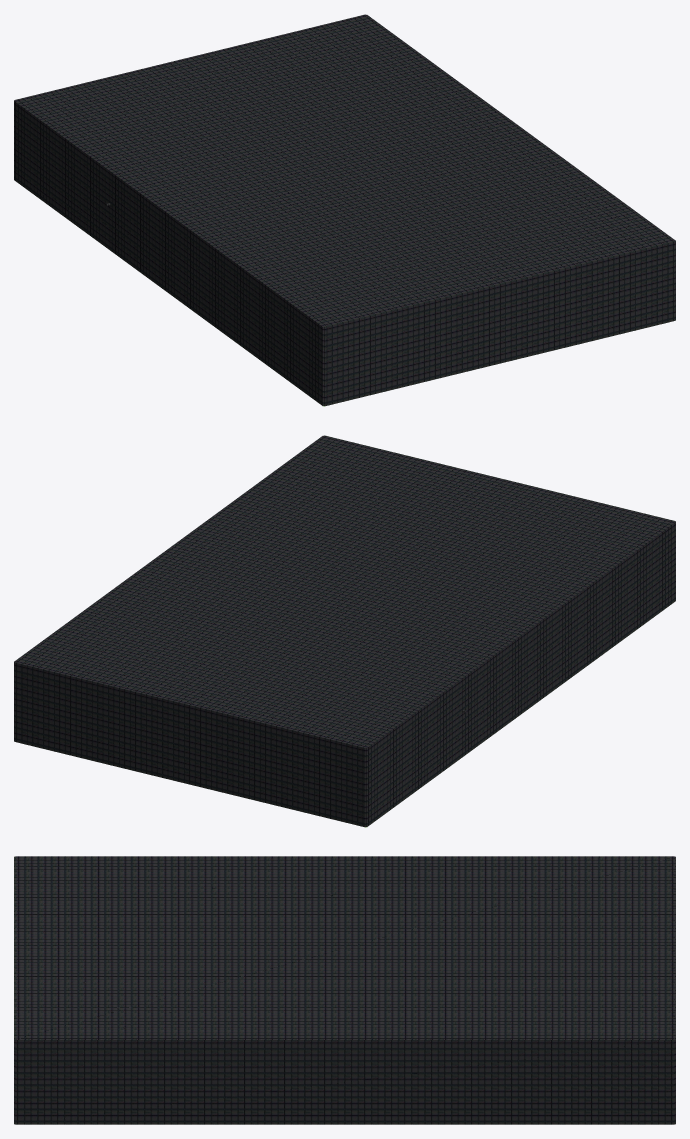
File: background_mobile.glb
3 views of the same model, one above another, from view 1: azimuth 30°, elevation 25°; view 2: azimuth 150°, elevation 25°; view 3: azimuth 270°, elevation 25° (orthographic). The views are drawn at different scales.
Visible parts, largest first — view 1: BG_Factory_Shell; view 2: BG_Factory_Shell; view 3: BG_Factory_Shell.
Boxes of the visible parts, x1,y1,x2,y2 form: BG_Factory_Shell: (14, 14, 675, 406); BG_Factory_Shell: (14, 435, 675, 827); BG_Factory_Shell: (14, 856, 675, 1124).
Bounding box in the file's own units: 329 × 71 × 496.
Materials: 4 (4 with a texture image).
